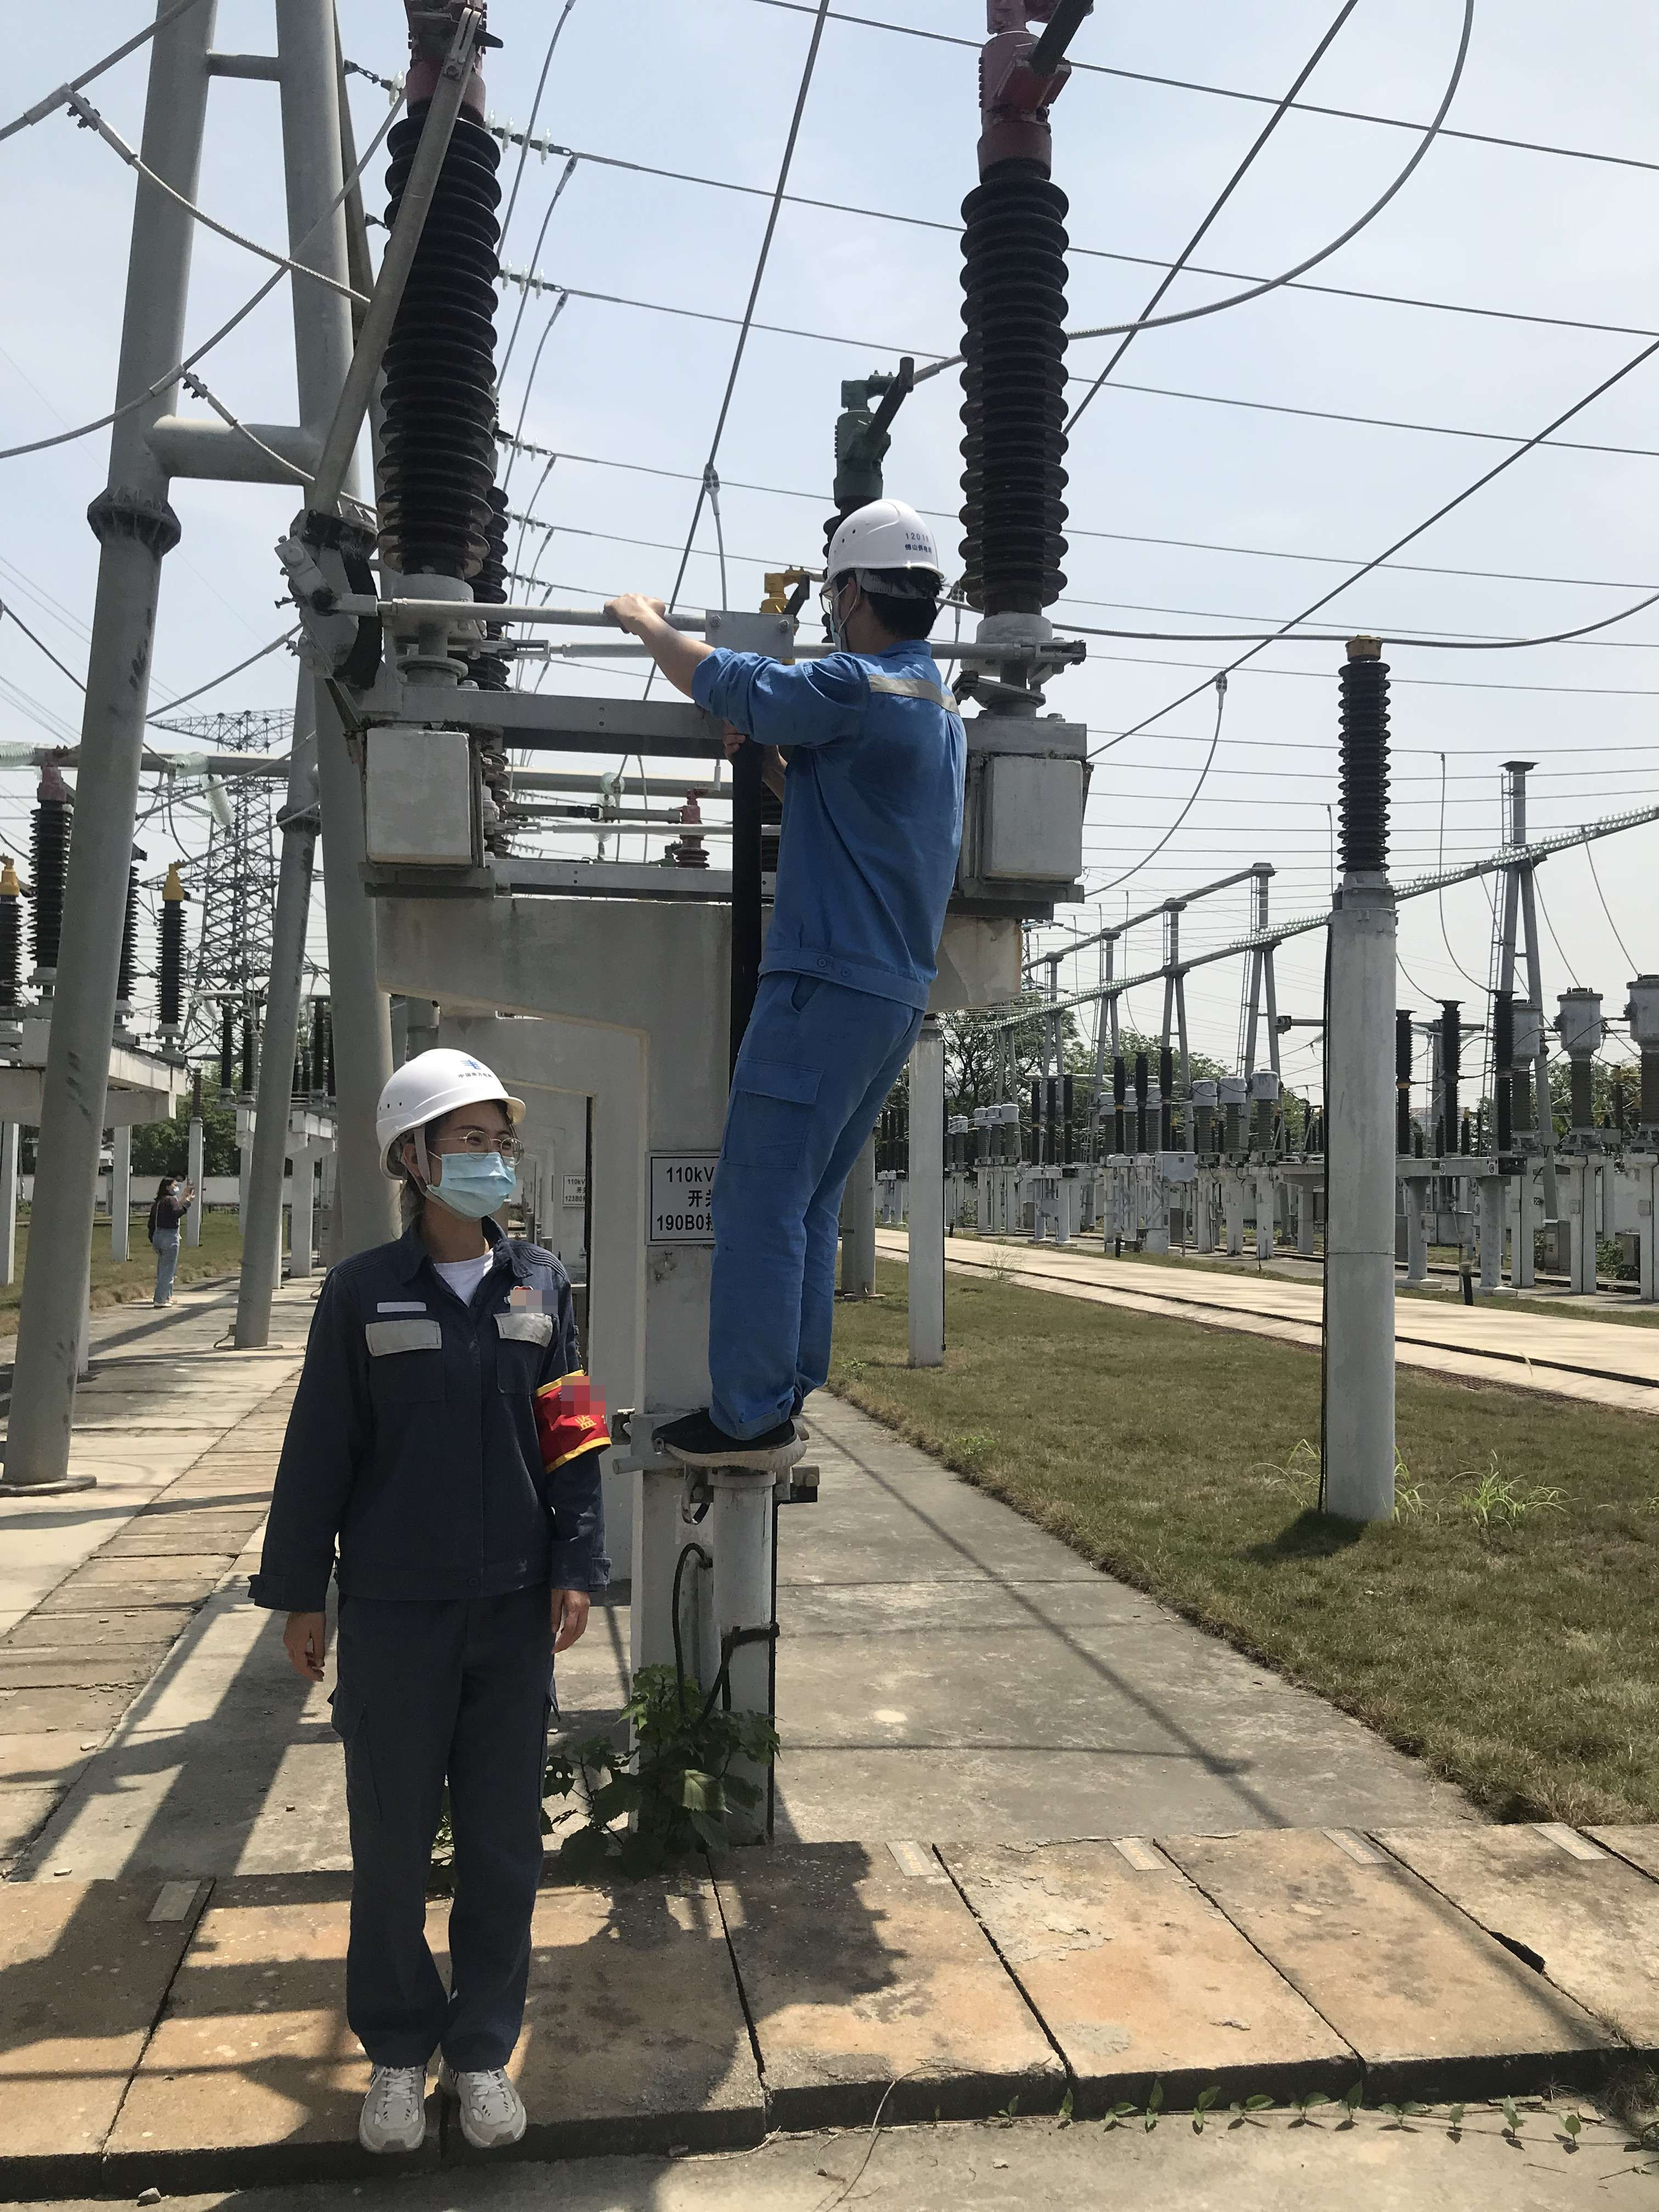downsuit: (319, 1625, 561, 2073), (706, 961, 915, 1428)
upsuit: (251, 1235, 619, 1606), (697, 632, 983, 932)
wrongtop: (615, 596, 741, 712)
